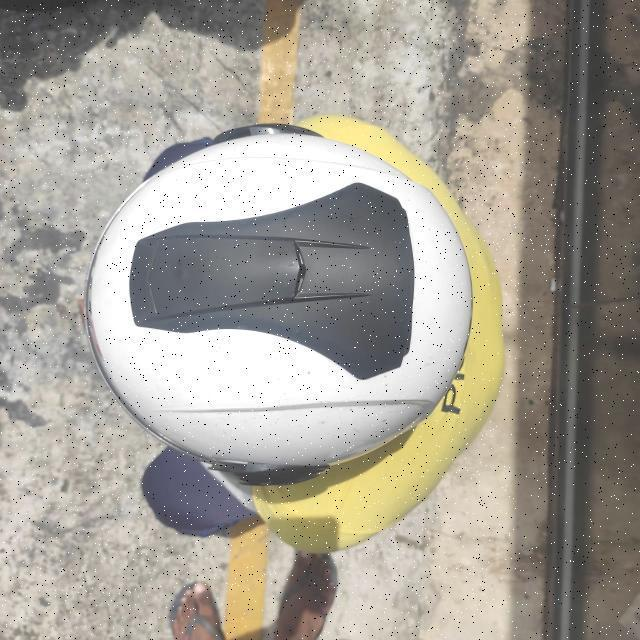helmet: (74, 118, 474, 486)
